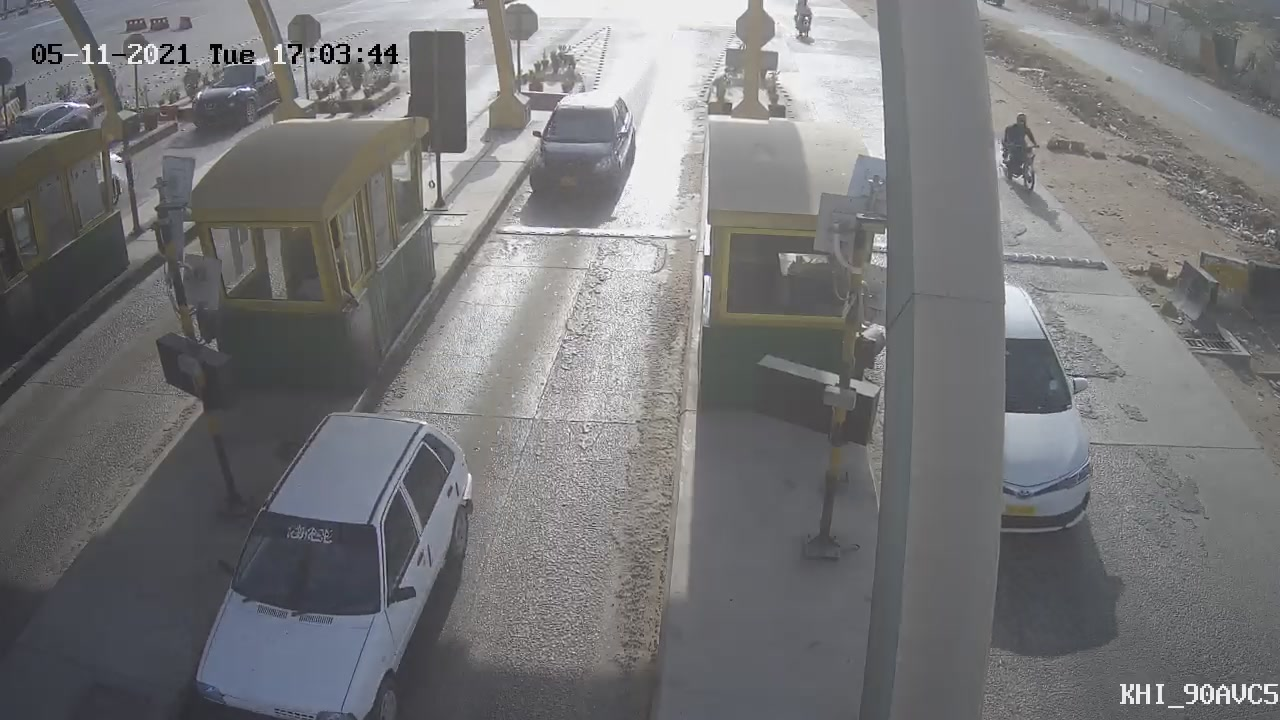F1: (501, 74, 652, 222)
